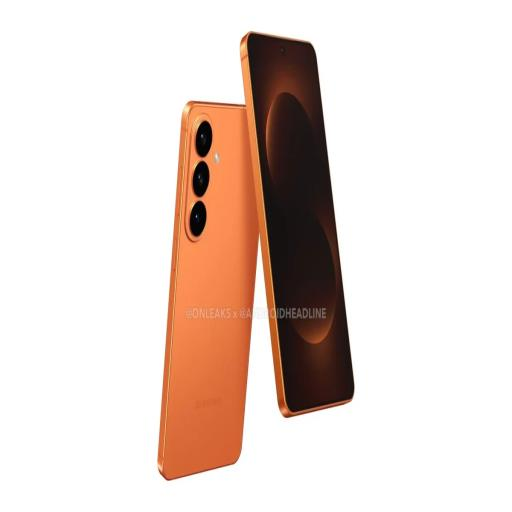phone: (152, 104, 259, 482)
